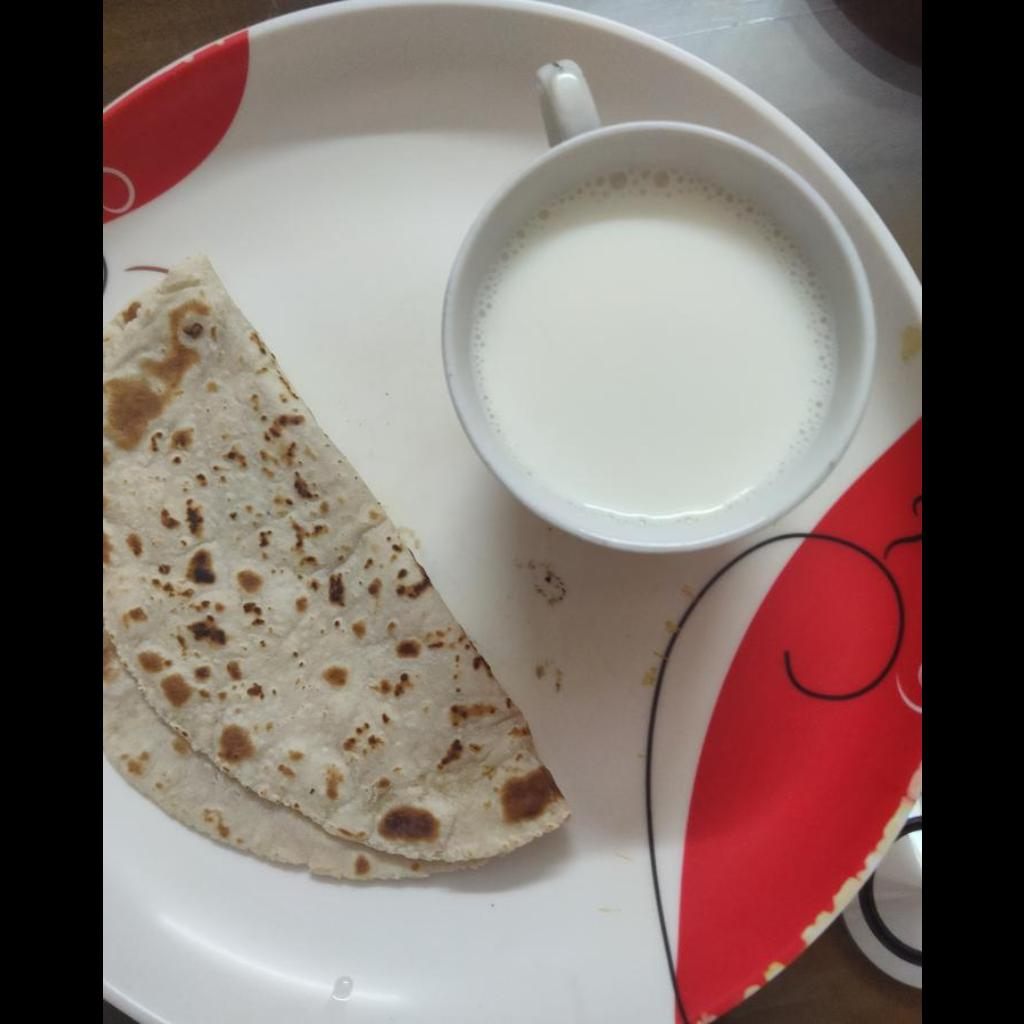milk: (474, 177, 835, 523)
ruti: (102, 252, 579, 881)
